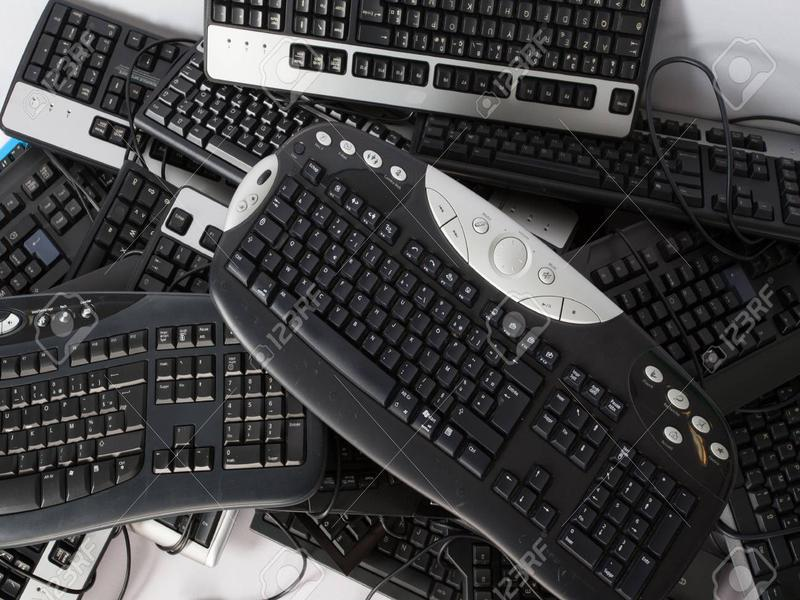keyboard: (208, 122, 736, 600), (1, 284, 332, 554), (191, 1, 666, 140)
